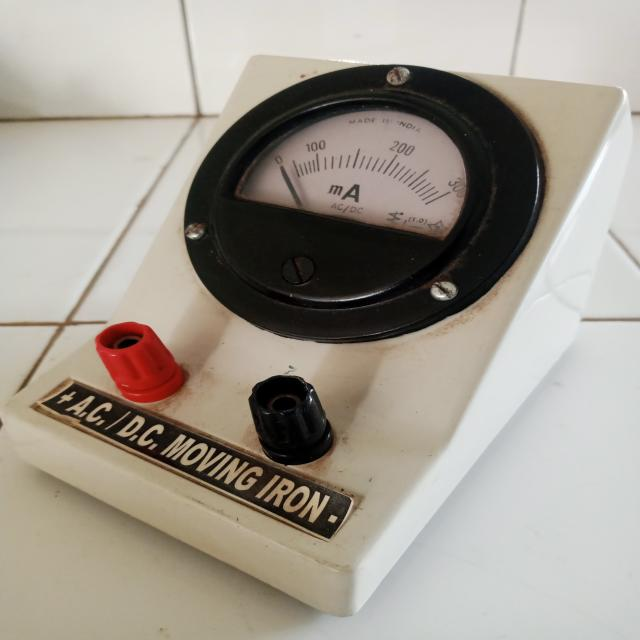Ammeter Analog: (18, 54, 623, 610)
